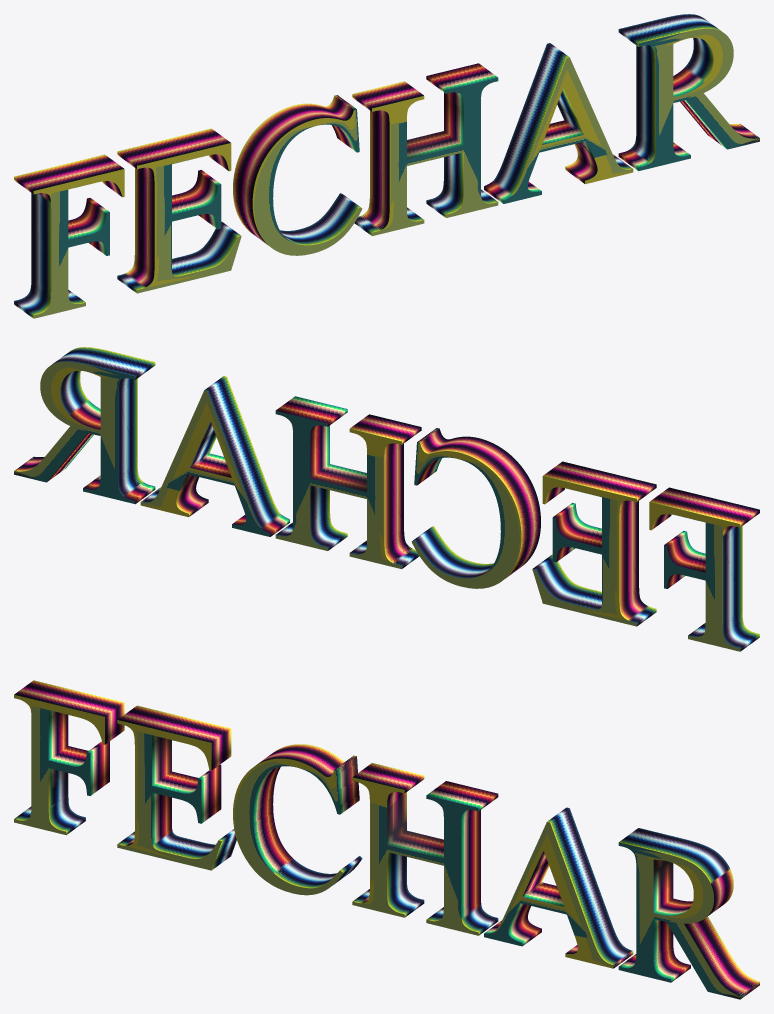
The model's file is fechar.fbx.
3 renders of one model, top to bottom at view 1: azimuth 30°, elevation 25°; view 2: azimuth 150°, elevation 25°; view 3: azimuth 330°, elevation 25°, orthographic.
Visible parts, largest first — view 1: Jogar; view 2: Jogar; view 3: Jogar.
Part boxes in pixels (x1,y1,x2,y2): Jogar: (14, 14, 759, 318); Jogar: (14, 347, 759, 651); Jogar: (14, 680, 759, 999).
Bounding box in the file's own units: 2.98 × 0.524 × 0.14.
